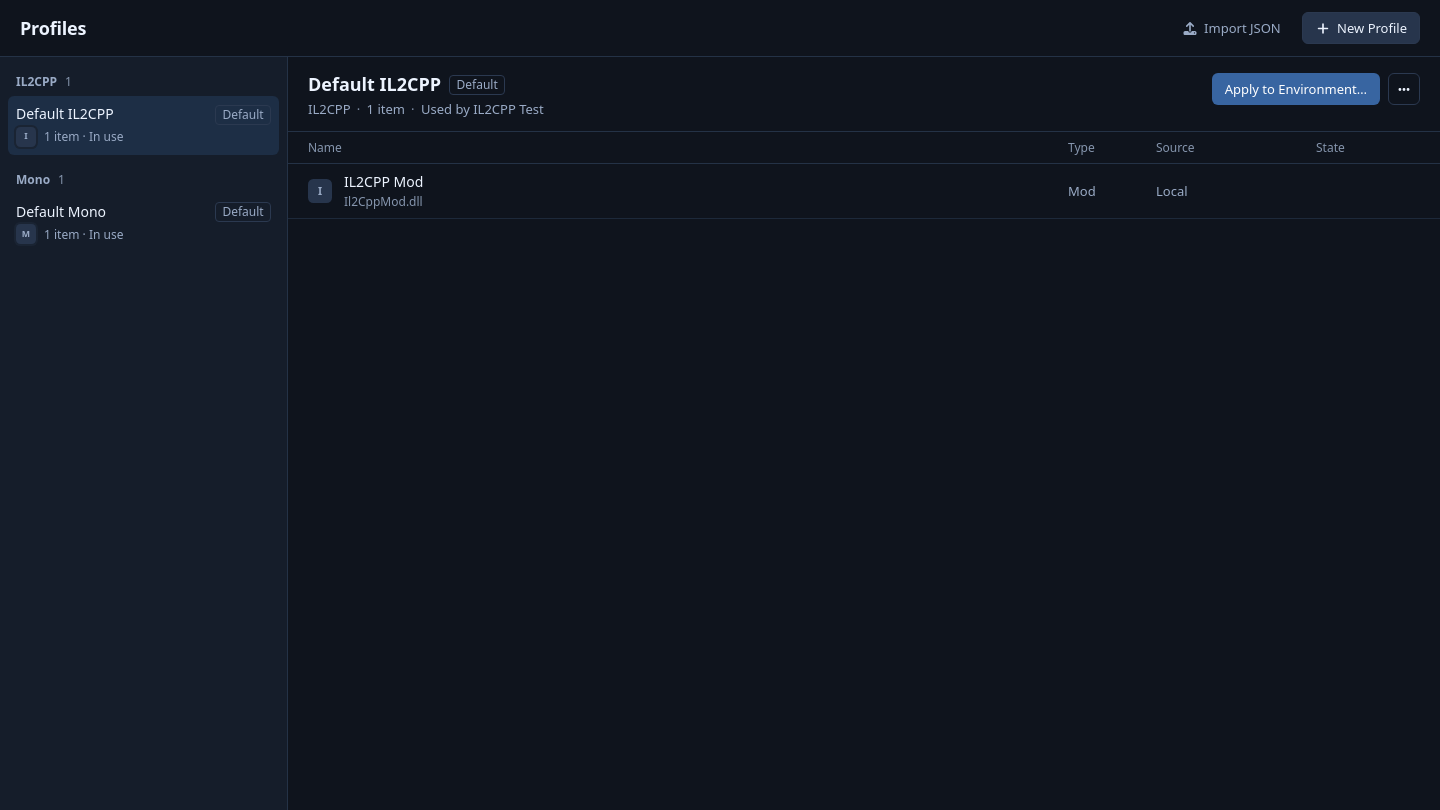
Test: ProfilesWorkspace › renders both runtime profile groups and disables incompatible targets
Expected: the button "Default IL2CPP Default I 1 item · In use" is shown, [8,96,279,155]
Expected: the button "Default Mono Default M 1 item · In use" is shown, [8,194,279,252]
Click the button "Apply to Environment…" at [1296, 89], box [1212,73,1380,105]
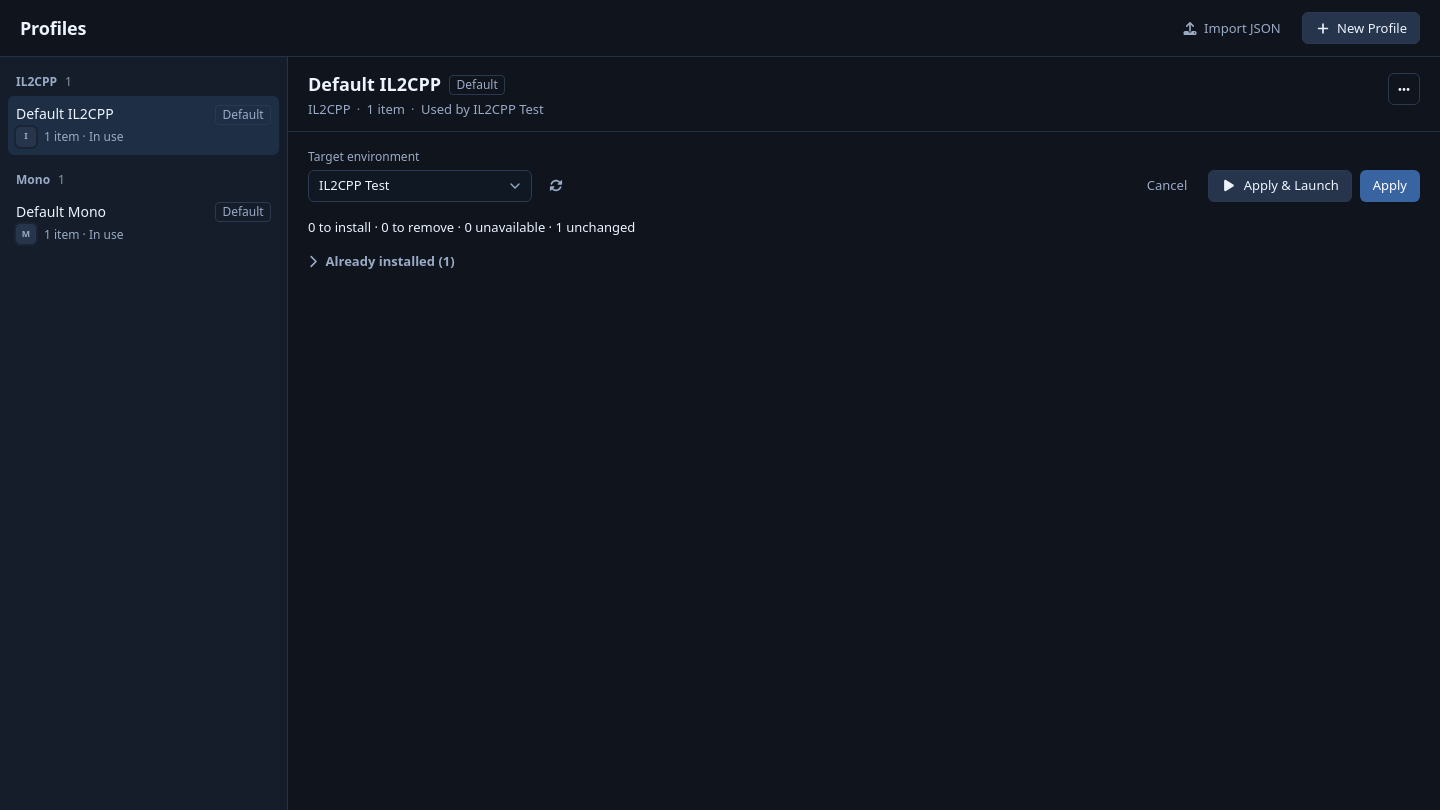
Click the dropdown named "target environment" at [420, 186], box [308,170,532,202]
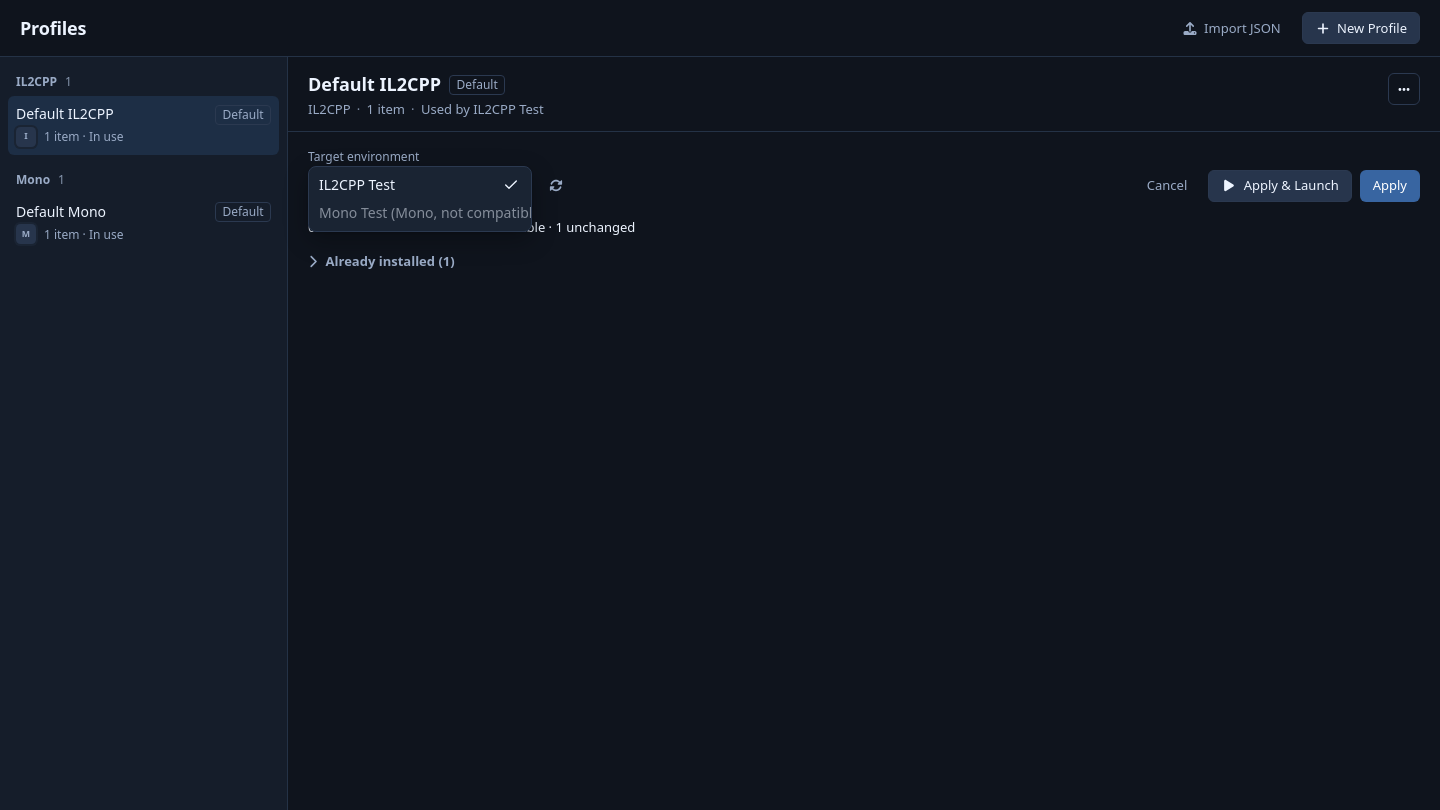
Press Escape
Click the button "Default Mono Default M 1 item · In use" at [61, 212], box [8,194,279,252]
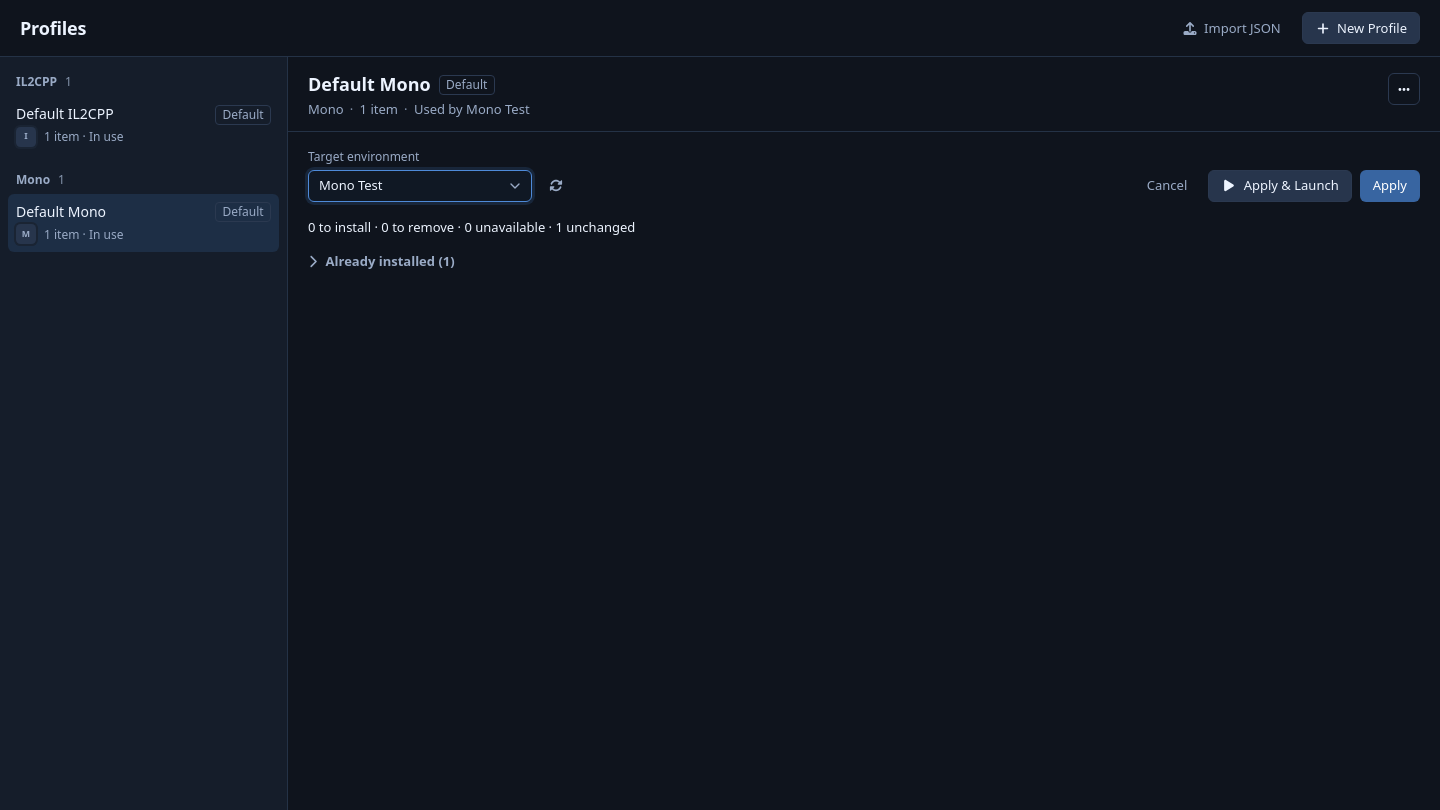
Expected: the dropdown named "target environment" shows "Mono Test", [308,170,532,202]
